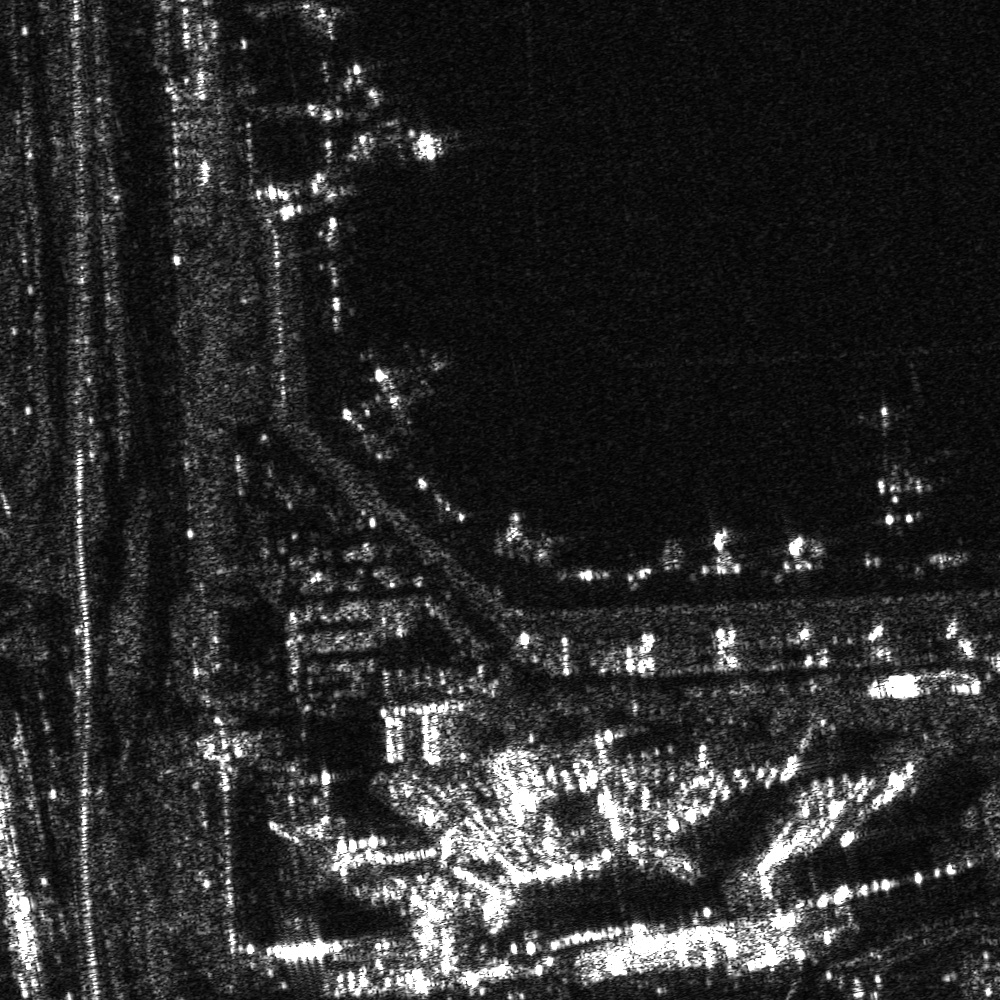A220: (351, 339, 455, 430)
A320/321: (324, 83, 452, 170)
Boeing787: (860, 402, 941, 536)
